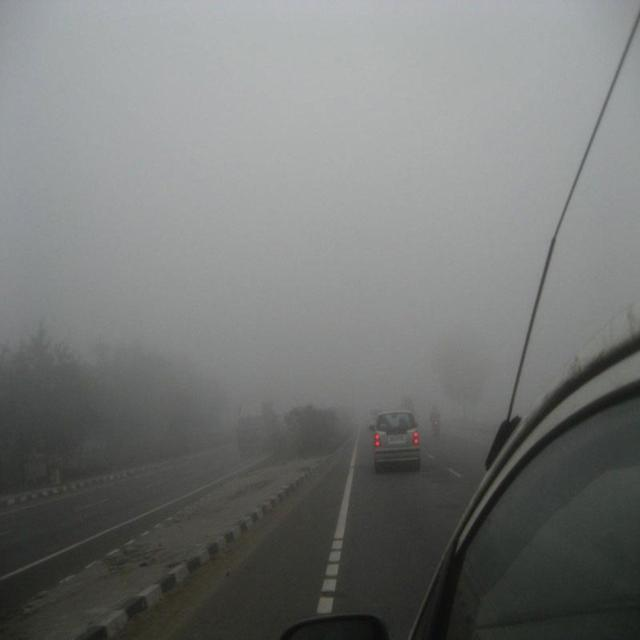Car: (292, 341, 640, 632), (363, 402, 423, 475)
